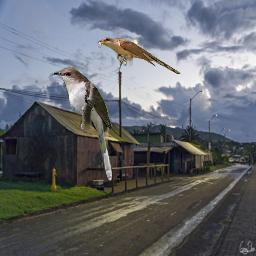Cuckoo: (51, 67, 113, 182), (96, 37, 181, 74)
